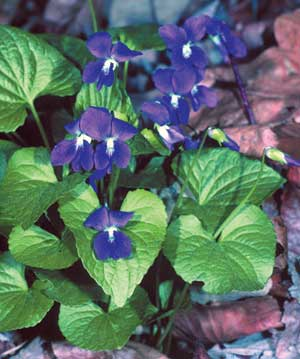violet: (54, 105, 141, 174), (152, 69, 222, 133), (74, 201, 139, 261), (77, 30, 137, 91), (160, 14, 204, 70)
